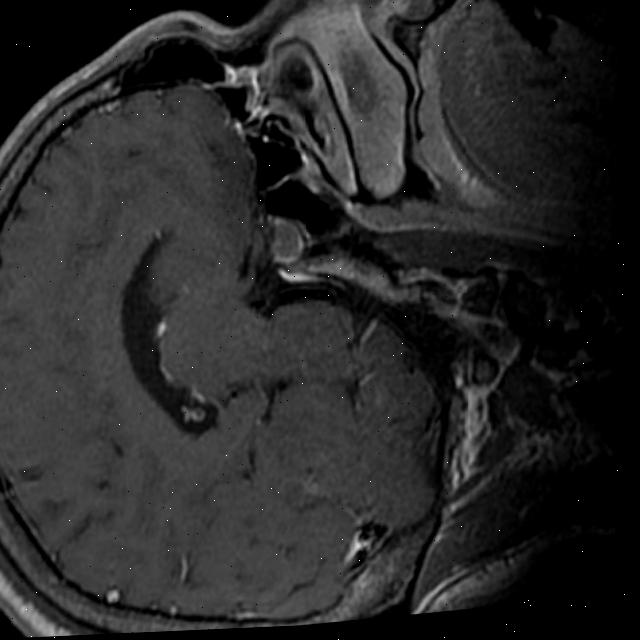Pituitary: (268, 212, 306, 264)
